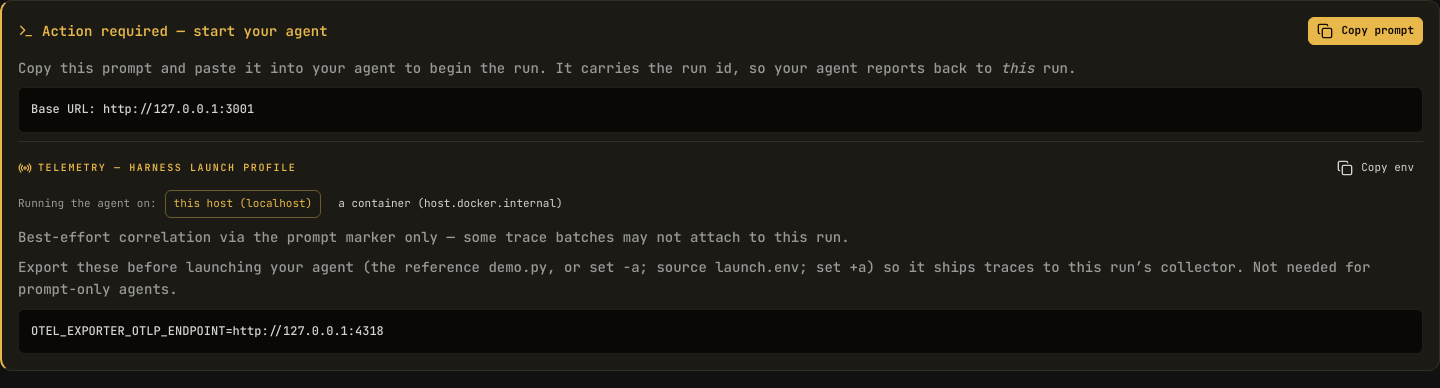
Test: RunPromptCard › refetches the prompt for the launch mode when the toggle flips
Expected: the text "Base URL: http://127.0.0.1:3001" is shown, 18,87 -> 1423,133
Expected: the text "http://host.docker.internal:3001" is not shown
Click the button "a container (host.docker.internal)": point(450, 204) 329,190 -> 572,218
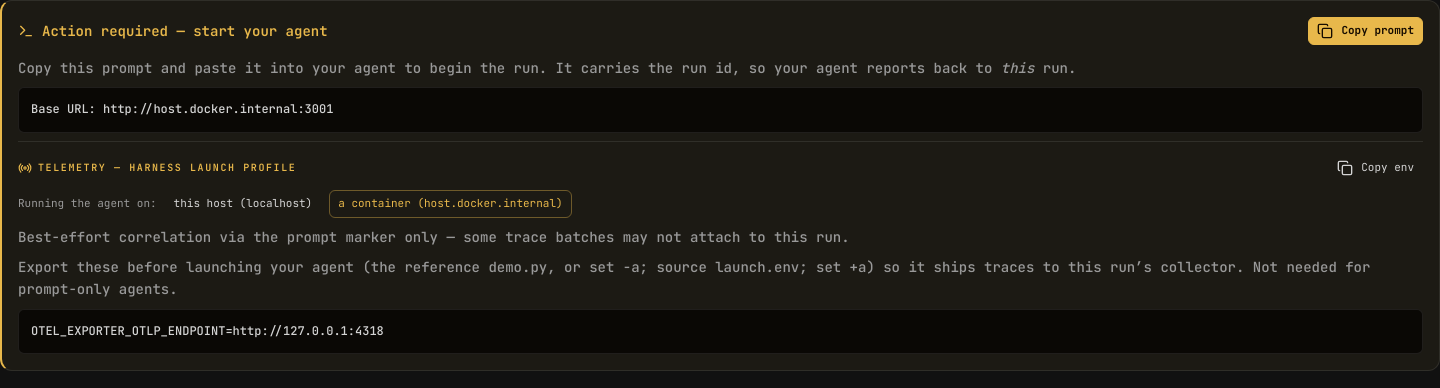
Now the text "Base URL: http://host.docker.internal:3001" is shown, box 18,87 -> 1423,133
